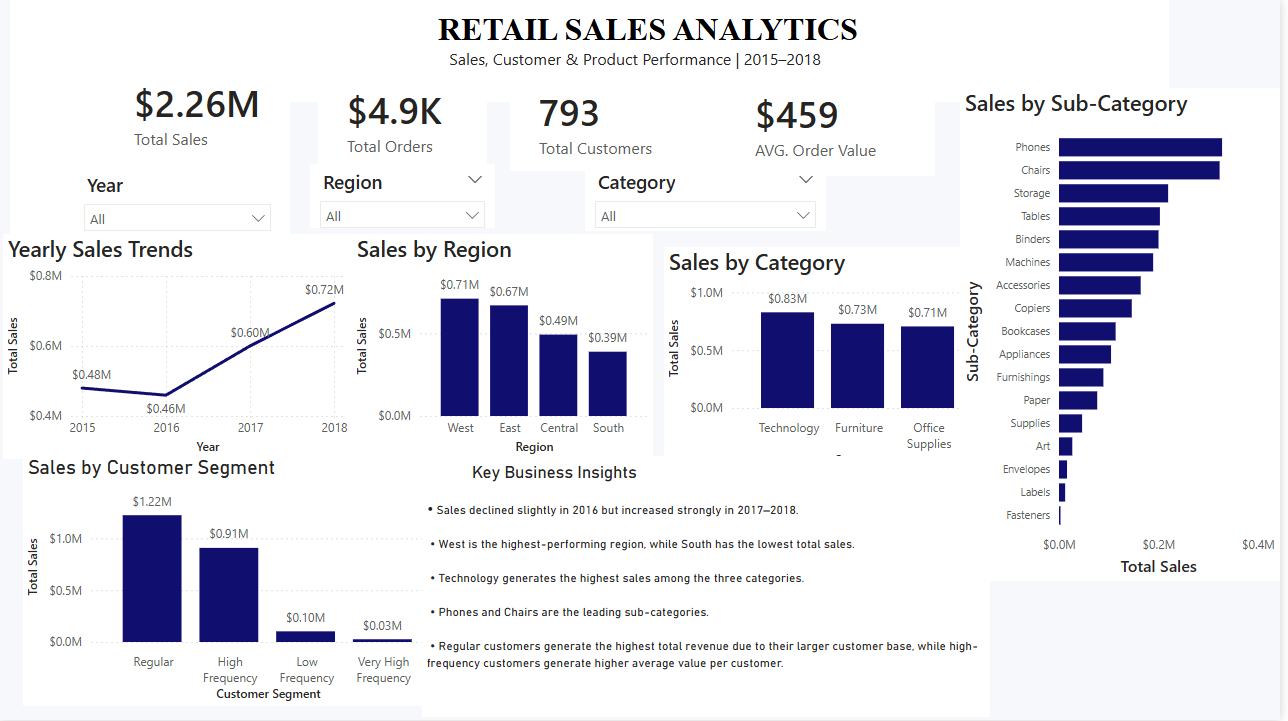

What the dashboard file says about the page in this screenshot:
{"tool":"powerbi","page":{"name":"Page 4","canvas":[1280,720],"ordinal":3},"visuals":[{"type":"textbox","box":[10,0,280,280],"z":0},{"type":"textbox","box":[265,0,904,102],"z":1000},{"type":"cardVisual","fields":{"Data":["retail_sales superstore.Total Sales"]},"box":[105,59,185,108],"z":2000},{"type":"cardVisual","fields":{"Data":["retail_sales superstore.Total Customers"]},"box":[510,73,216,98],"z":4000},{"type":"cardVisual","fields":{"Data":["retail_sales superstore.Average Order Value"]},"box":[726,72,209,104],"z":5000},{"type":"lineChart","title":"Yearly Sales Trends","fields":{"Category":["retail_sales superstore.Order Date.Variation.Date Hierarchy.Year"],"Y":["retail_sales superstore.Total Sales"]},"box":[3,234,349,225],"z":6000},{"type":"clusteredColumnChart","title":"Sales by Region","fields":{"Category":["retail_sales superstore.Region"],"Y":["retail_sales superstore.Total Sales"]},"box":[352,234,301,225],"z":7000},{"type":"clusteredColumnChart","title":"Sales by Category","fields":{"Category":["retail_sales superstore.Category"],"Y":["retail_sales superstore.Total Sales"]},"box":[664,247,326,225],"z":8000},{"type":"clusteredBarChart","title":"Sales by Sub-Category","fields":{"Category":["retail_sales superstore.Sub-Category"],"Y":["retail_sales superstore.Total Sales"]},"box":[960,88,320,445],"z":9000},{"type":"clusteredColumnChart","title":" Sales by Customer Segment","fields":{"Category":["Customer Analysis.Customer Segment"],"Y":["retail_sales superstore.Total Sales"]},"box":[23,456,427,250],"z":10000},{"type":"slicer","title":"Year","fields":{"Values":["retail_sales superstore.Order Date.Variation.Date Hierarchy.Year"]},"box":[74,167,207,67],"z":11000},{"type":"slicer","fields":{"Values":["retail_sales superstore.Category"]},"box":[585,164,241,67],"z":12000},{"type":"slicer","fields":{"Values":["retail_sales superstore.Region"]},"box":[310,164,185,64],"z":13000},{"type":"textbox","box":[422,456,568,261],"z":14000},{"type":"cardVisual","fields":{"Data":["retail_sales superstore.Total Orders"]},"box":[318,68,169,103],"z":14001}]}

Visuals, with their boxes in screenshot pixels (x1, y1, x2, y2), scaled from the page's 1280x720 canvas onto the 1288x721 screenshot:
textbox: box(10, 0, 292, 280)
textbox: box(267, 0, 1176, 102)
cardVisual - retail_sales superstore.Total Sales: box(106, 59, 292, 167)
cardVisual - retail_sales superstore.Total Customers: box(513, 73, 731, 171)
cardVisual - retail_sales superstore.Average Order Value: box(731, 72, 941, 176)
"Yearly Sales Trends" lineChart: box(3, 234, 354, 460)
"Sales by Region" clusteredColumnChart: box(354, 234, 657, 460)
"Sales by Category" clusteredColumnChart: box(668, 247, 996, 473)
"Sales by Sub-Category" clusteredBarChart: box(966, 88, 1287, 534)
" Sales by Customer Segment" clusteredColumnChart: box(23, 457, 453, 707)
"Year" slicer: box(74, 167, 283, 234)
slicer - retail_sales superstore.Category: box(589, 164, 831, 231)
slicer - retail_sales superstore.Region: box(312, 164, 498, 228)
textbox: box(425, 457, 996, 718)
cardVisual - retail_sales superstore.Total Orders: box(320, 68, 490, 171)
